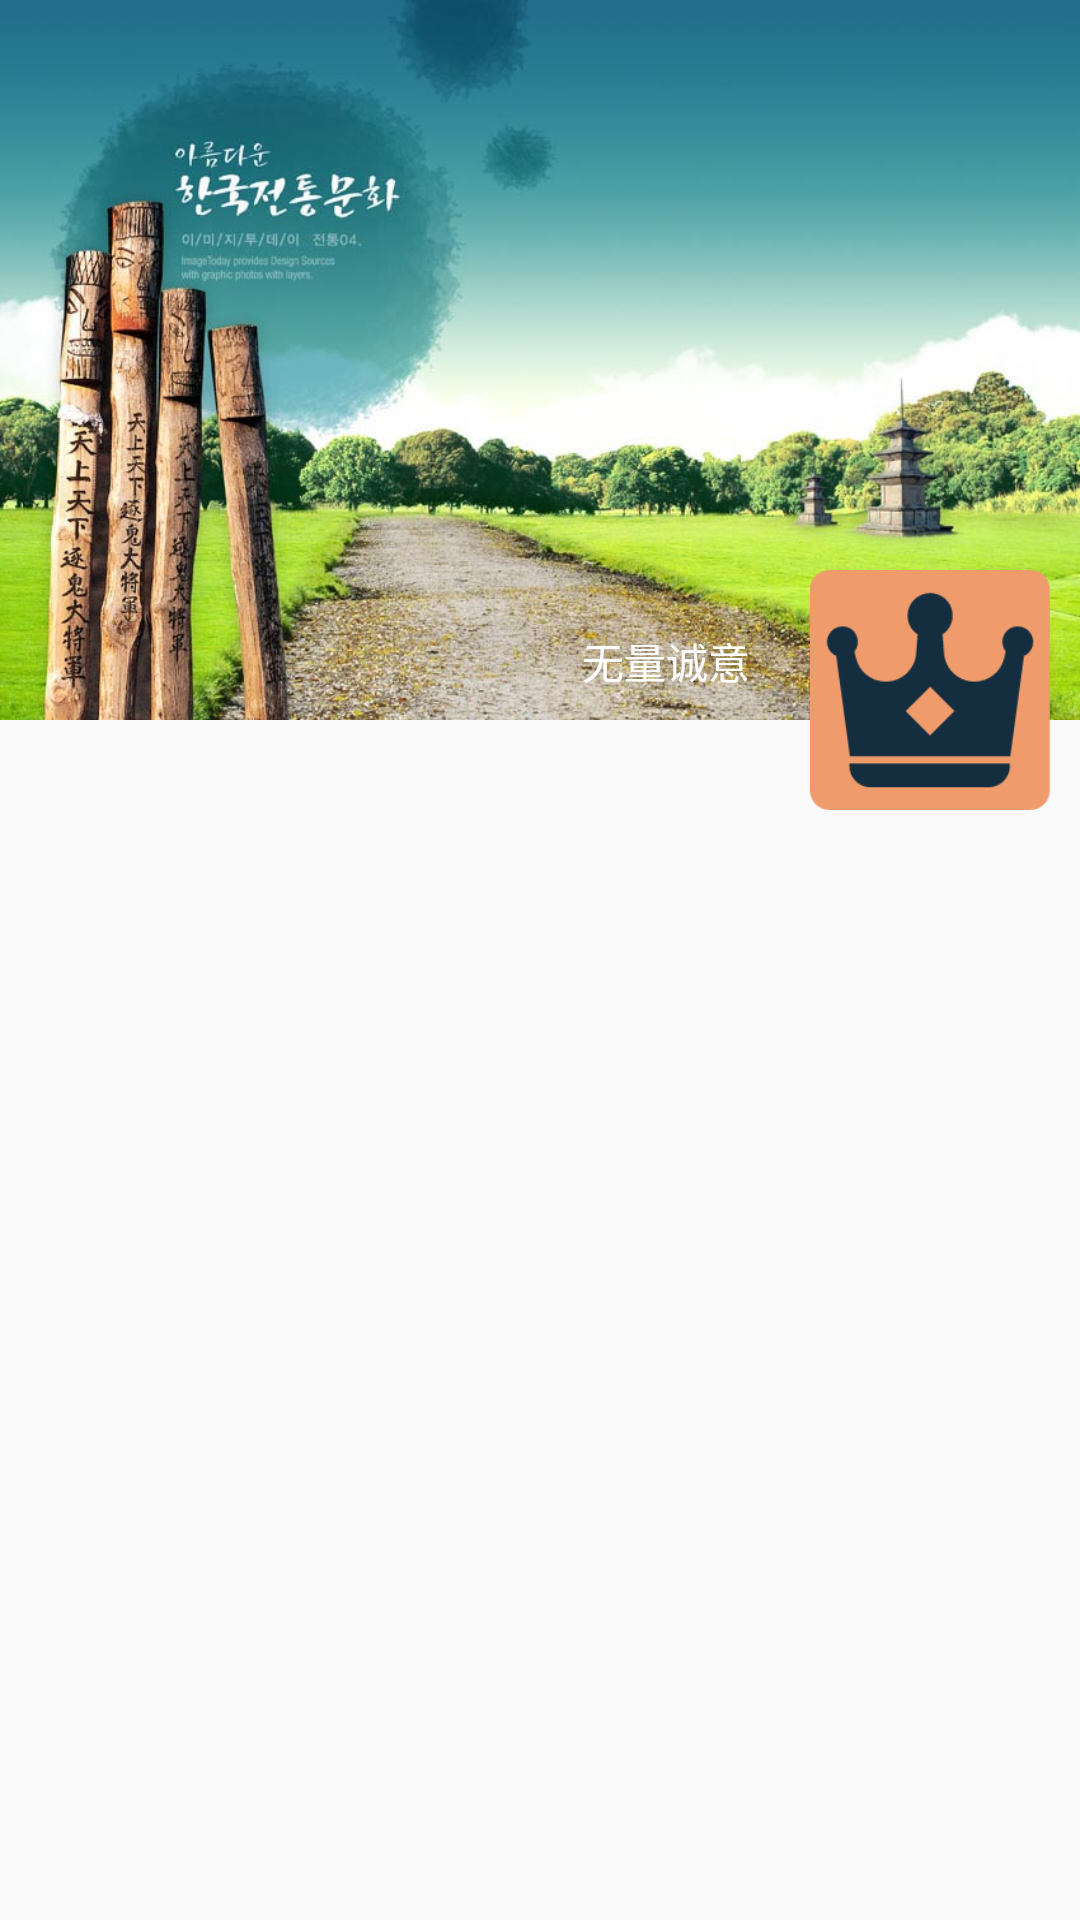

Icons on this 1080px×1920px Android screen, each with the point to tap as [x,y]:
king: [930,690]
